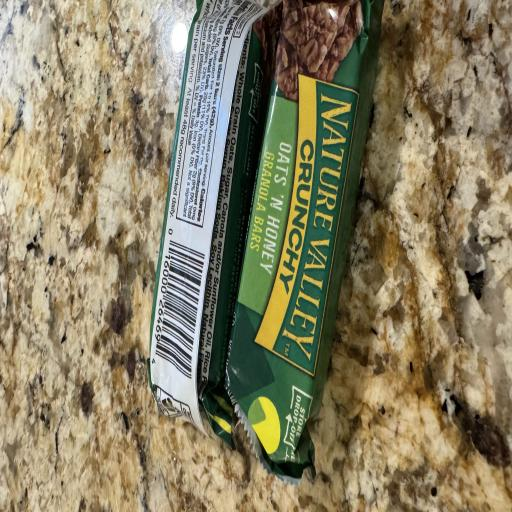granola: (226, 0, 383, 481), (148, 0, 280, 444)
